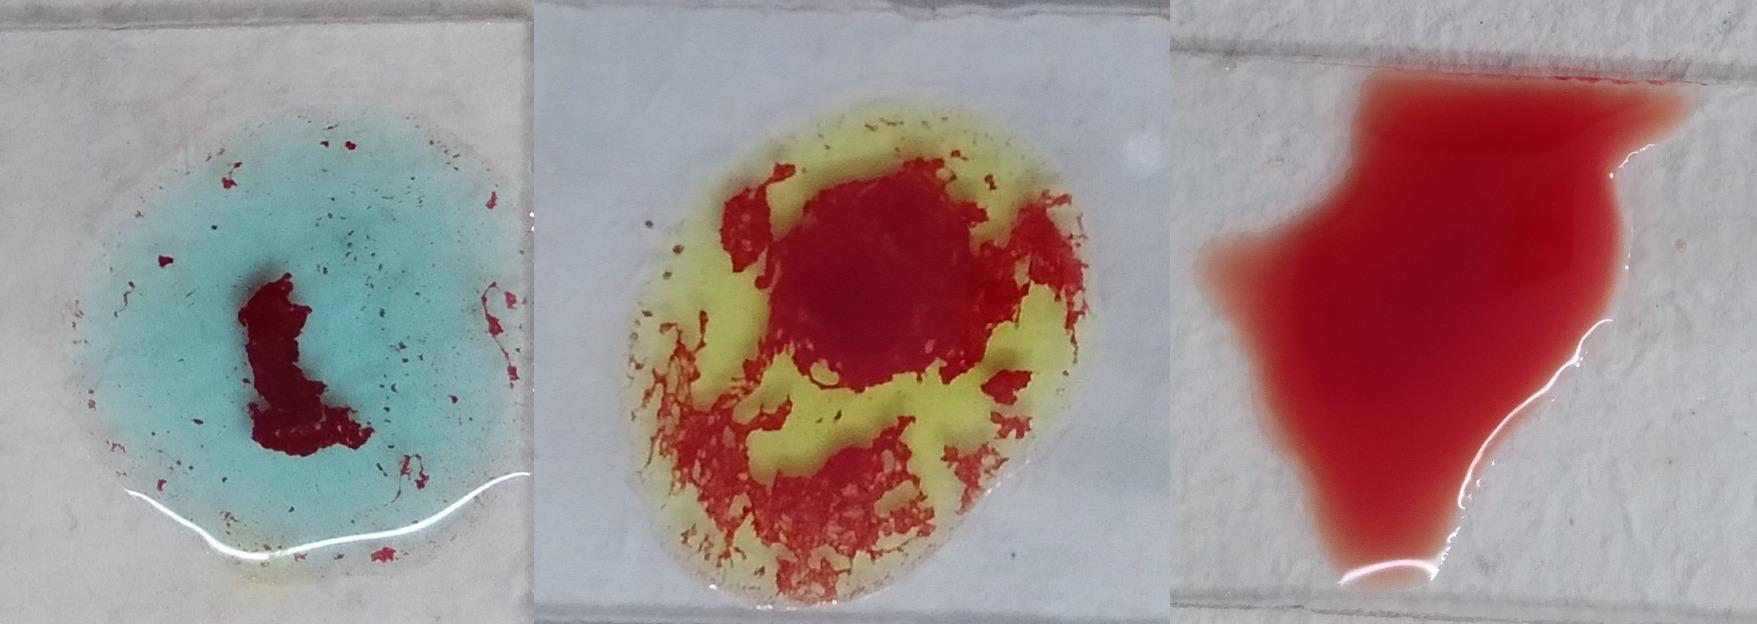A: (58, 106, 523, 575)
B: (635, 100, 1087, 613)
